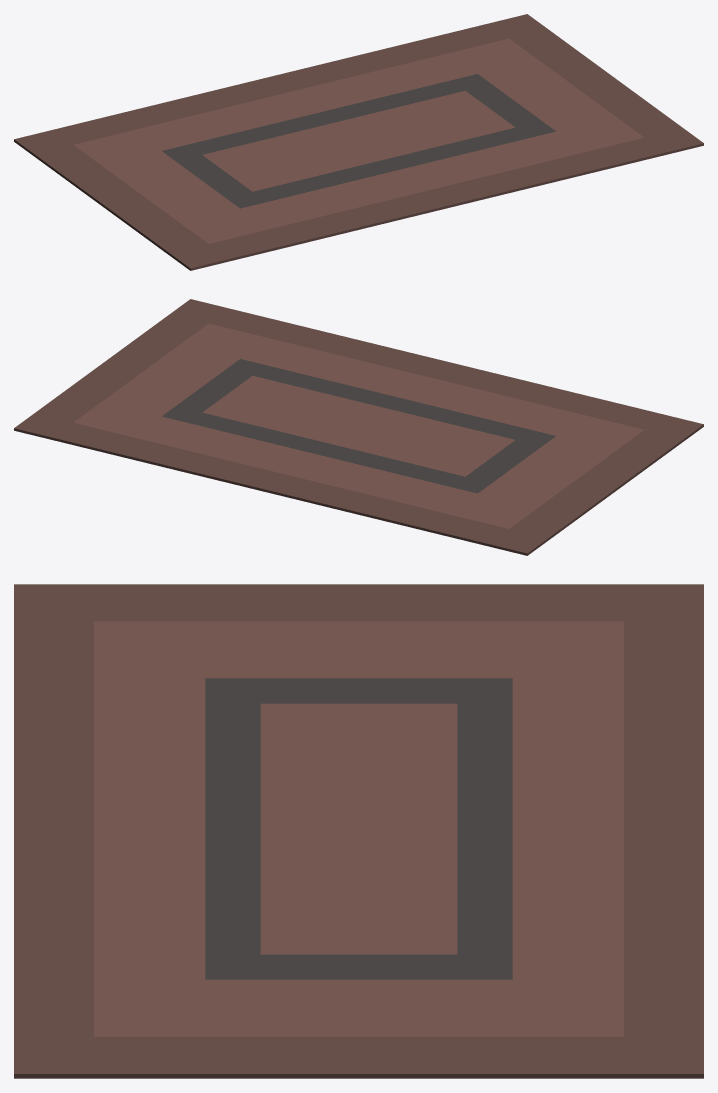
Rendered from SD_Prop_Rug_Red_Small_01.fbx.
The picture shows the model from 3 angles, top to bottom: view 1: azimuth 30°, elevation 25°; view 2: azimuth 150°, elevation 25°; view 3: azimuth 270°, elevation 25°; orthographic projection. The views are drawn at different scales.
Visible parts, largest first — view 1: SD_Prop_Rug_Red_Small_01; view 2: SD_Prop_Rug_Red_Small_01; view 3: SD_Prop_Rug_Red_Small_01.
Boxes of the visible parts, x1,y1,x2,y2 form: SD_Prop_Rug_Red_Small_01: (14, 14, 703, 270); SD_Prop_Rug_Red_Small_01: (14, 299, 703, 555); SD_Prop_Rug_Red_Small_01: (14, 584, 703, 1078).
Bounding box in the file's own units: 4.41 × 0.0203 × 2.63.
